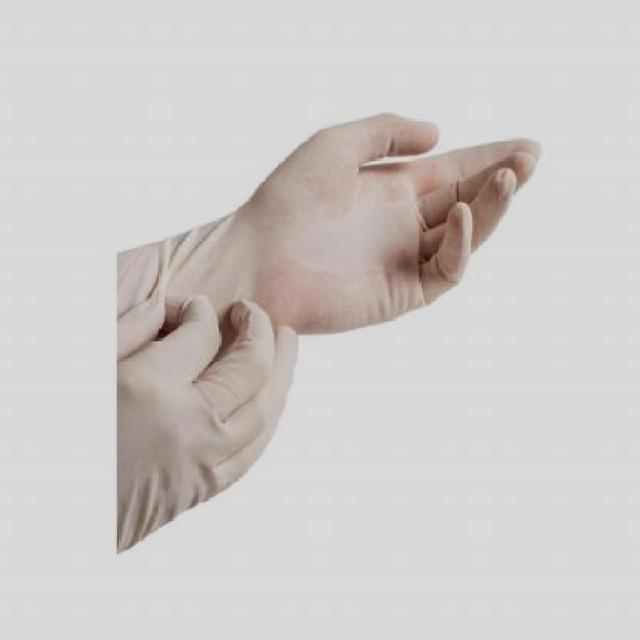glove: (120, 96, 549, 335), (124, 272, 318, 571)
